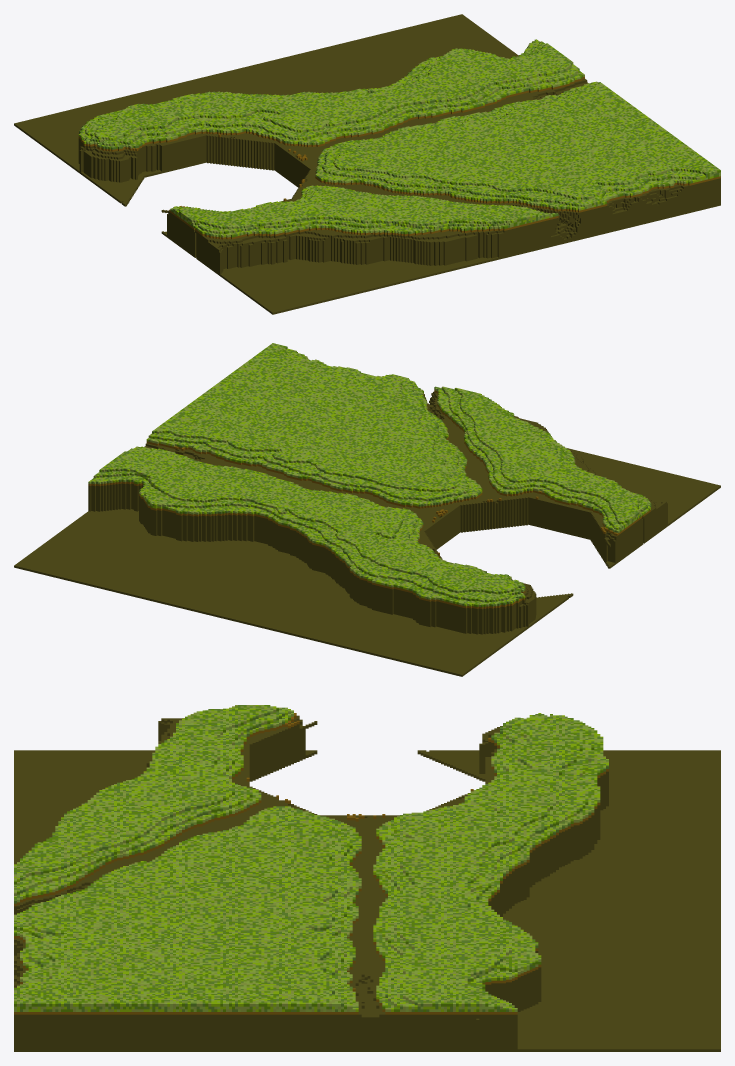
File: Tab E4-0.obj
The picture shows the model from 3 angles, top to bottom: view 1: azimuth 30°, elevation 25°; view 2: azimuth 150°, elevation 25°; view 3: azimuth 270°, elevation 25°; orthographic projection. The views are drawn at different scales.
Bounding box in the file's own units: 24 × 1.8 × 24.
Materials: 1 (1 with a texture image).
